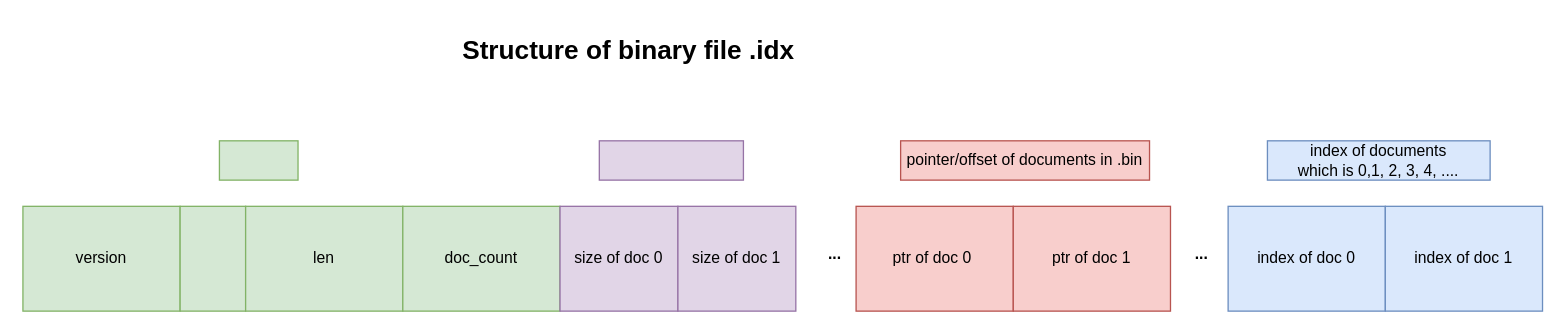
This 1565x334 diagram has some shape labels left out. Each missing label, with the centre of its shape:
"dtype" belongs at point (212, 258).
"metadata" belongs at point (258, 160).
"size of documents" belongs at point (670, 160).
